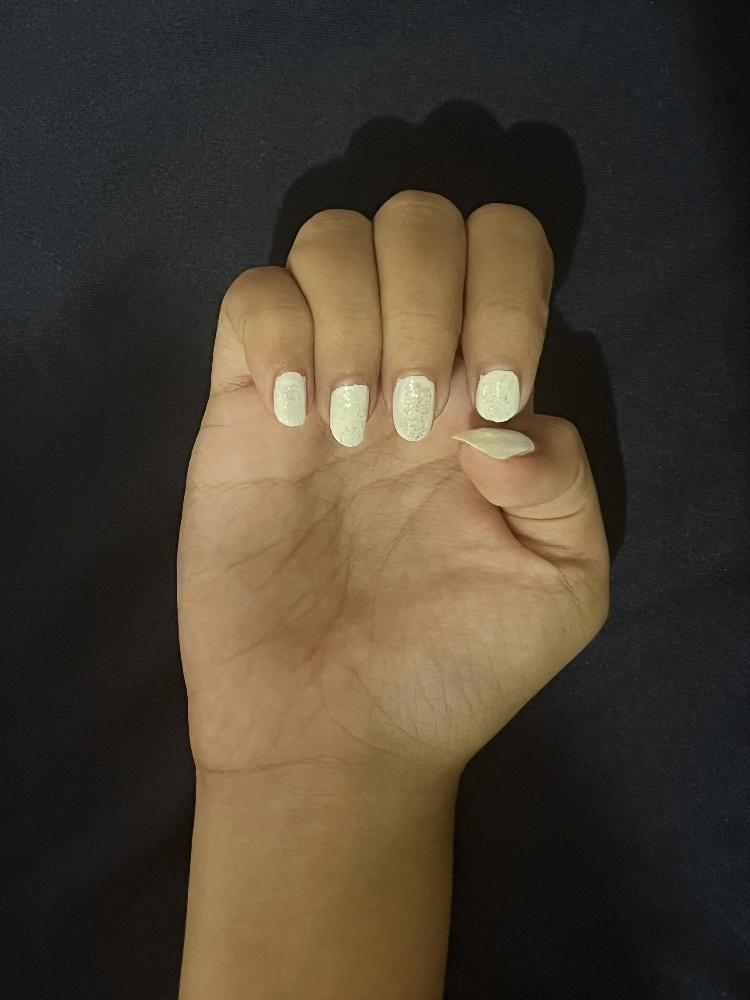e: (171, 186, 608, 777)
